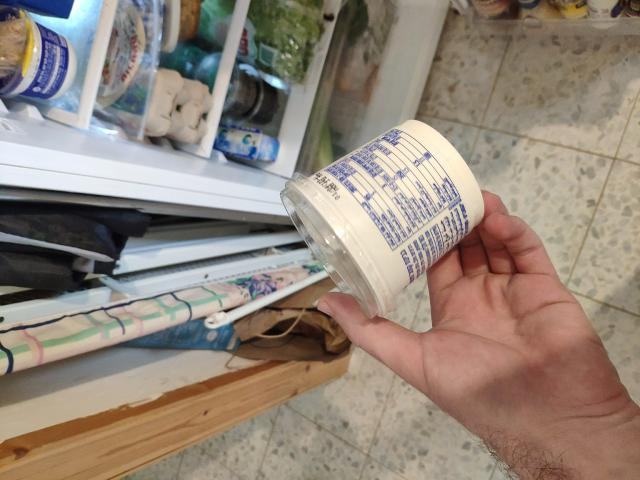cotage: (272, 115, 490, 311)
